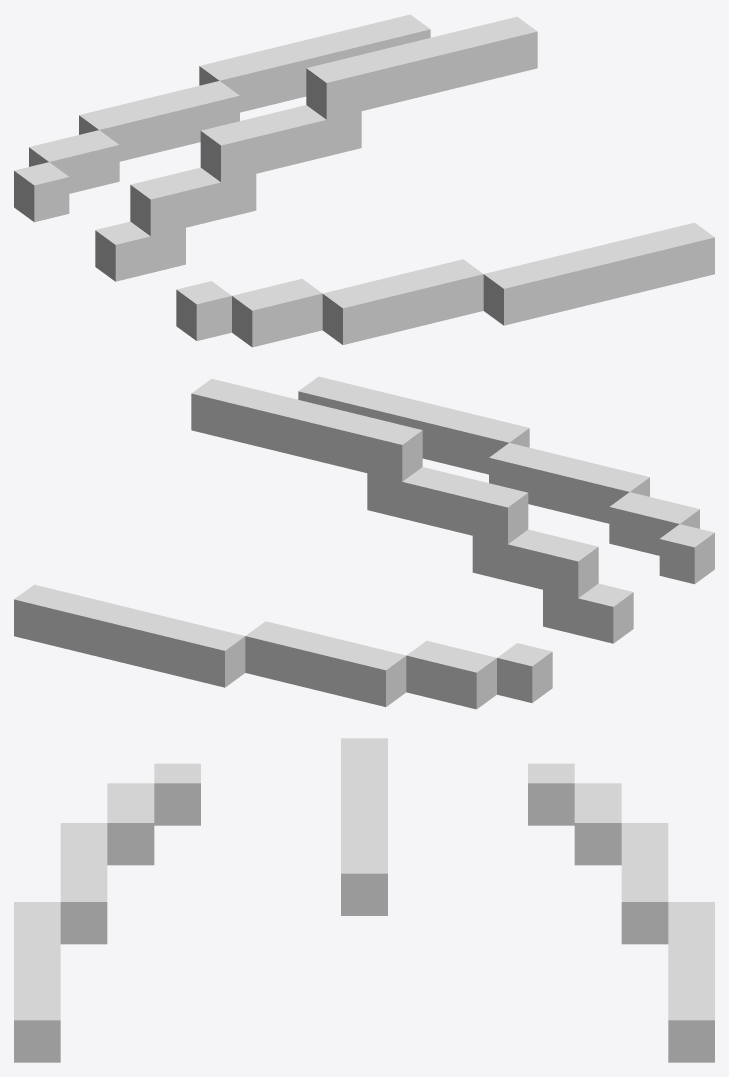
Rendered from toenail.obj.
3 renders of one model, top to bottom at view 1: azimuth 30°, elevation 25°; view 2: azimuth 150°, elevation 25°; view 3: azimuth 270°, elevation 25°, orthographic. The views are drawn at different scales.
Size of the model in its own units: 1.3 by 0.4 by 1.5.
Materials: 1 (1 with a texture image).
